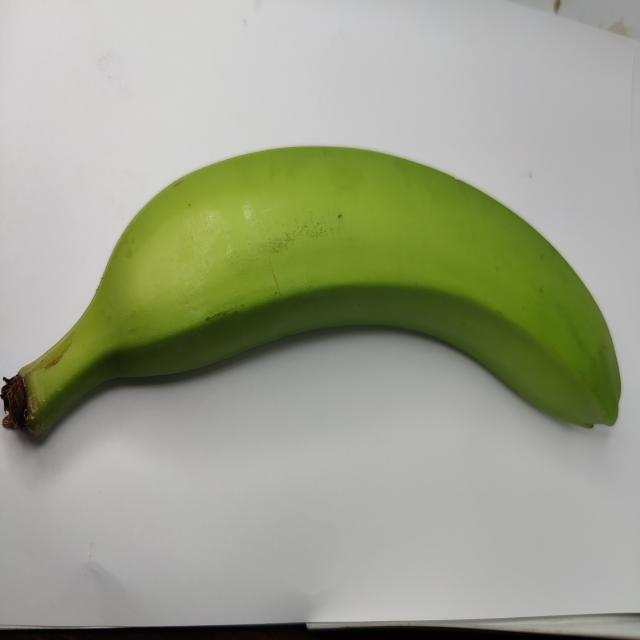raw: (0, 128, 627, 506)
